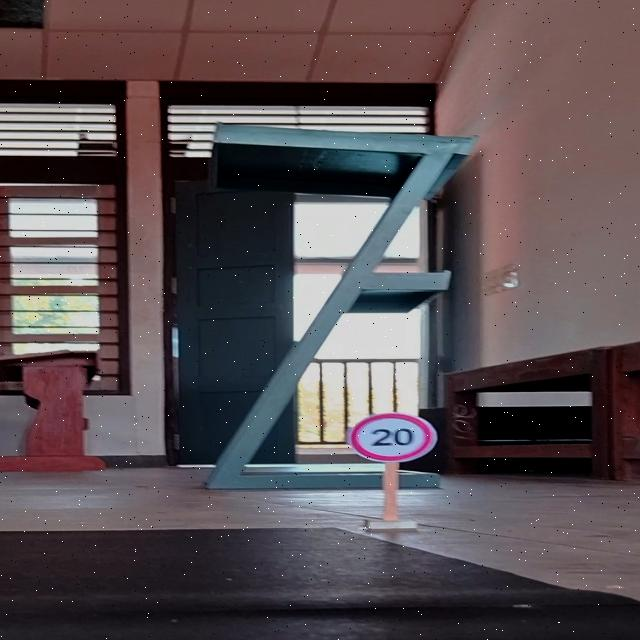Speed20: (346, 410, 440, 466)
